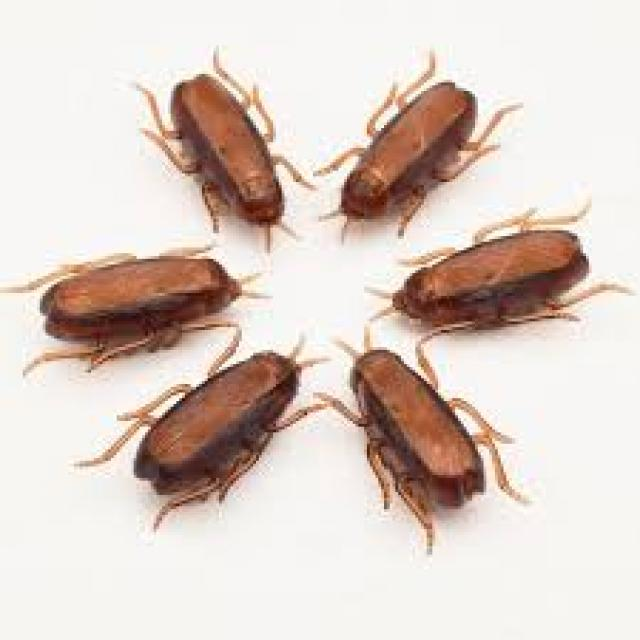Cockroach: (81, 304, 363, 550), (300, 15, 520, 283), (357, 181, 638, 382), (316, 306, 526, 561), (0, 211, 265, 402), (126, 32, 333, 272)
